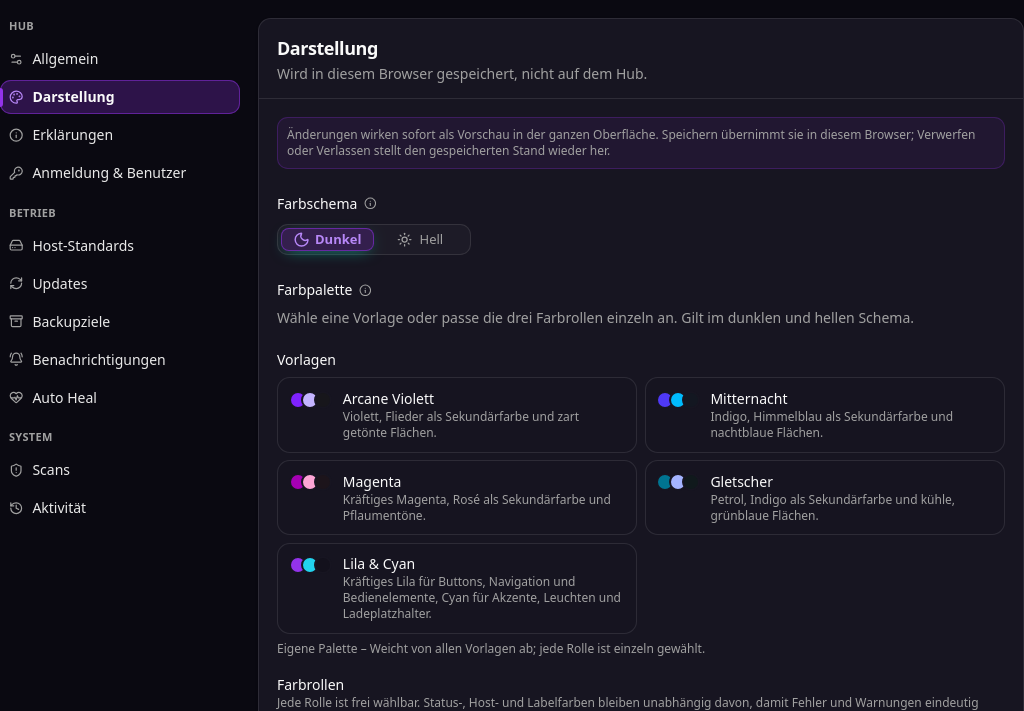
Scenario: appearance palette › previews a preset on buttons and controls, discards it and saves only on request
The image size is (1024, 711).
Click the radio button labelled "Mitternacht". click: (825, 415)
box: [645,377,1005,453]
(page scrolled)
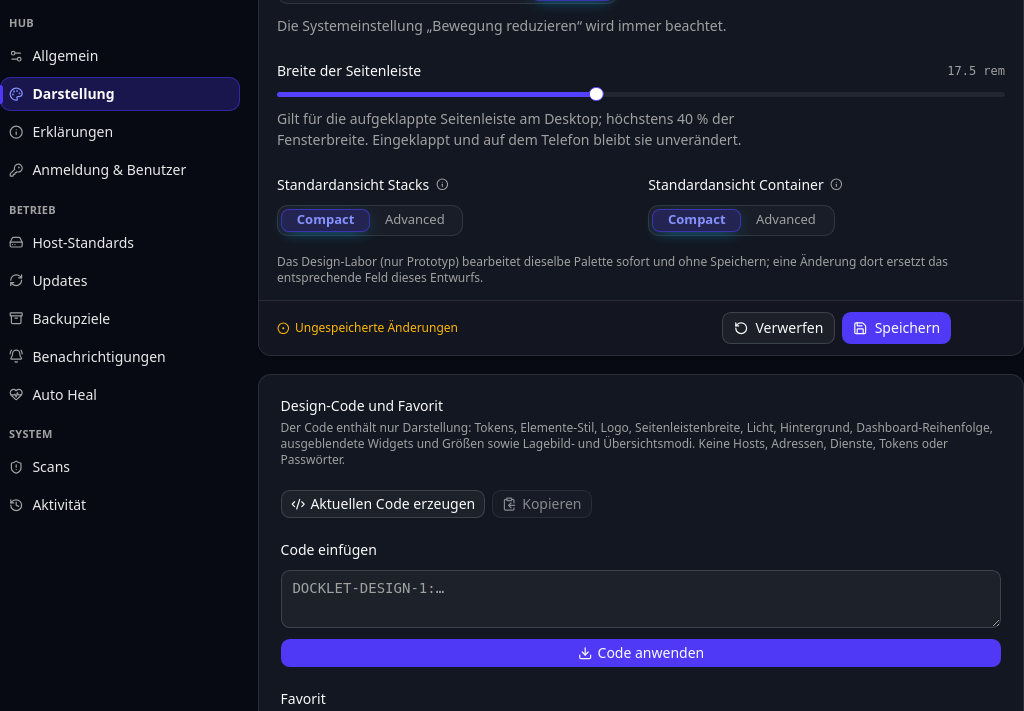
Result: the message reads "Ungespeicherte Änderungen" at [295,319,458,336]
Click the button "Verwerfen". click: (779, 328)
box: [722,312,835,344]
(page scrolled)
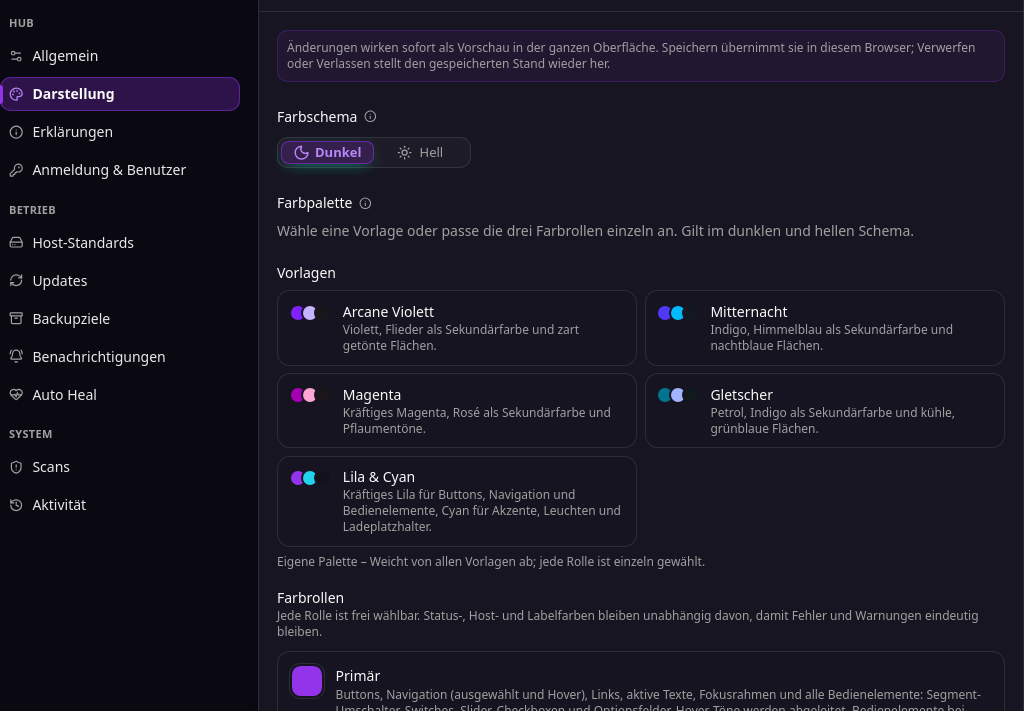
Click the radio button labelled "Mitternacht". click: (825, 328)
box: [645,290,1005,366]
(page scrolled)
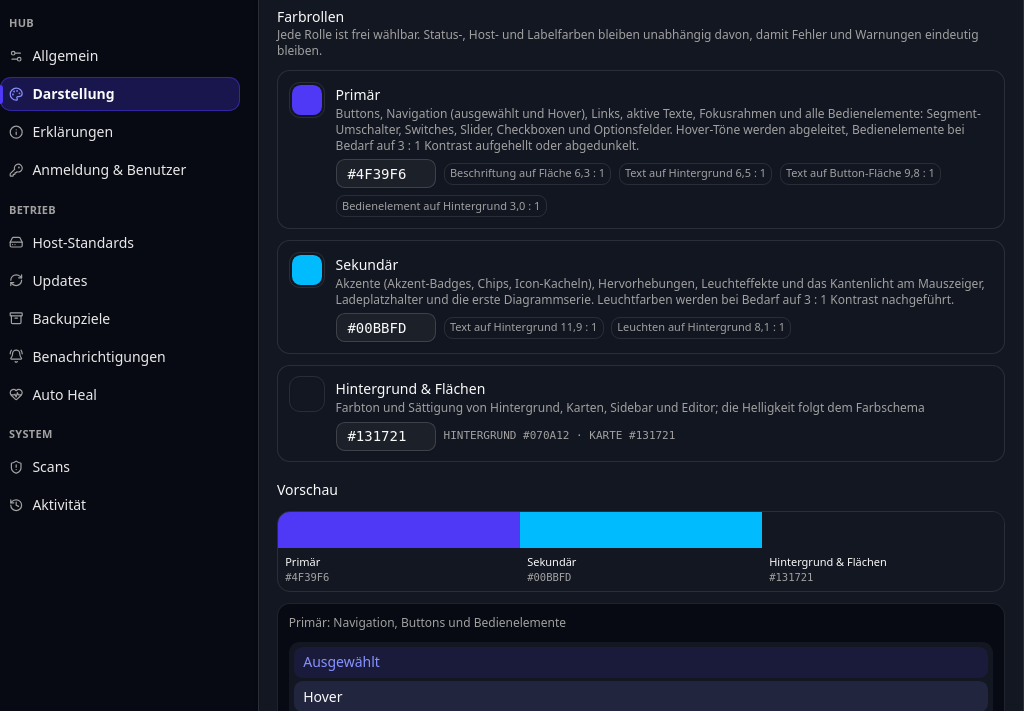
Replace the text in the field named "Sekundär als Hex-Wert" with "#00b6d4". click: (386, 328)
box: [336,313,436,342]
(page scrolled)
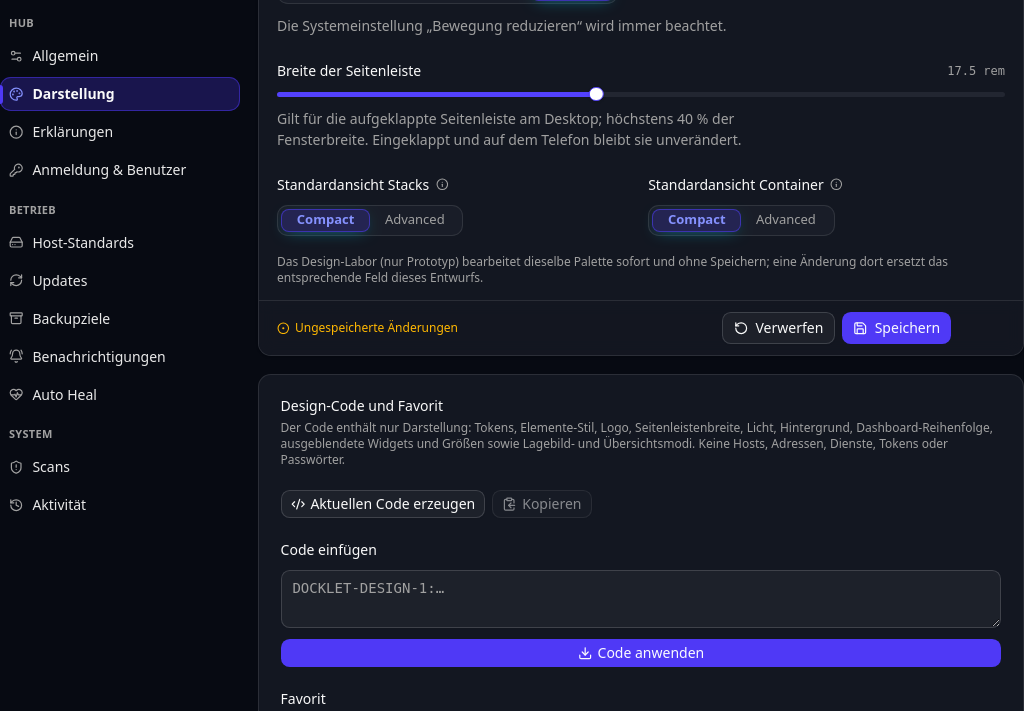
Click the button "Speichern". click: (897, 328)
box: [842,312,951,344]
(page scrolled)
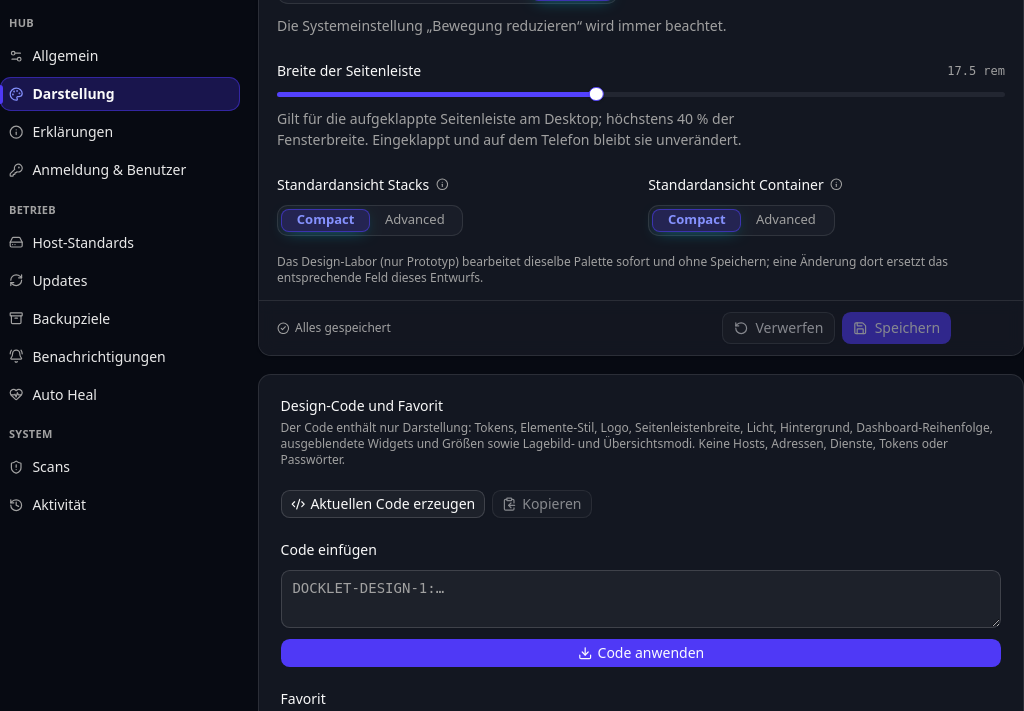
Result: the message reads "Alles gespeichert" at [295,319,391,336]
